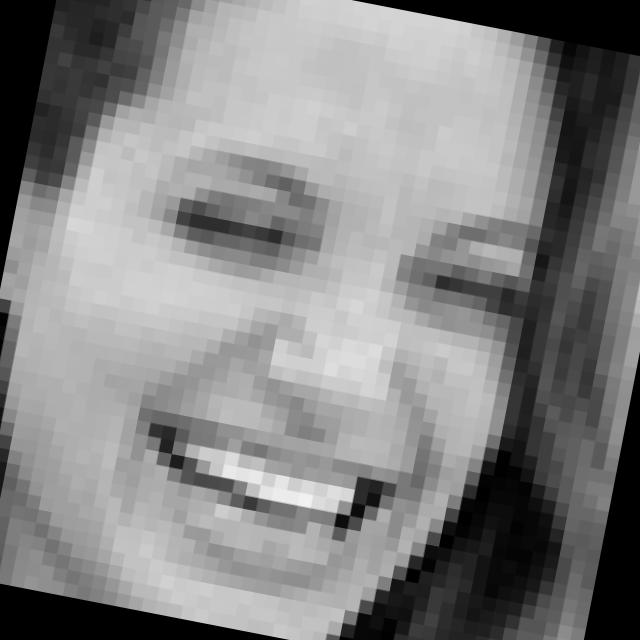happy: (61, 130, 548, 640)
